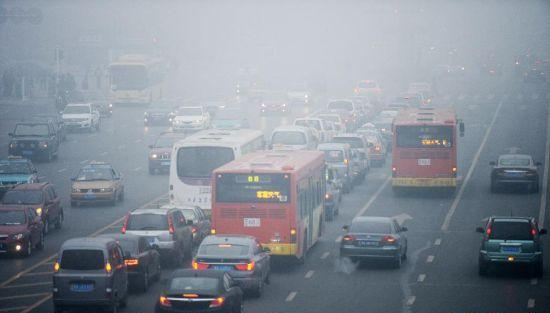bus: (209, 150, 325, 268), (170, 125, 273, 226), (390, 105, 466, 191), (104, 51, 166, 106), (314, 142, 357, 192)
car: (50, 236, 132, 310), (190, 233, 272, 298), (88, 231, 161, 292), (119, 207, 194, 265), (474, 214, 547, 272), (155, 267, 244, 312), (338, 214, 409, 267), (2, 182, 65, 230), (68, 157, 126, 205), (1, 203, 46, 257), (159, 203, 211, 249), (488, 151, 543, 192), (5, 119, 60, 157), (148, 133, 193, 177), (328, 131, 375, 173), (268, 123, 315, 164), (301, 177, 339, 221), (20, 114, 66, 148), (1, 157, 44, 191), (66, 89, 114, 118), (57, 103, 102, 133), (351, 132, 386, 166), (334, 146, 365, 184), (169, 105, 211, 133), (290, 117, 331, 145), (366, 118, 399, 152), (324, 97, 360, 128), (143, 98, 182, 126), (211, 109, 251, 134), (315, 112, 349, 138), (259, 91, 292, 115), (344, 95, 374, 121), (407, 80, 435, 104), (286, 81, 313, 105), (353, 78, 383, 99)
